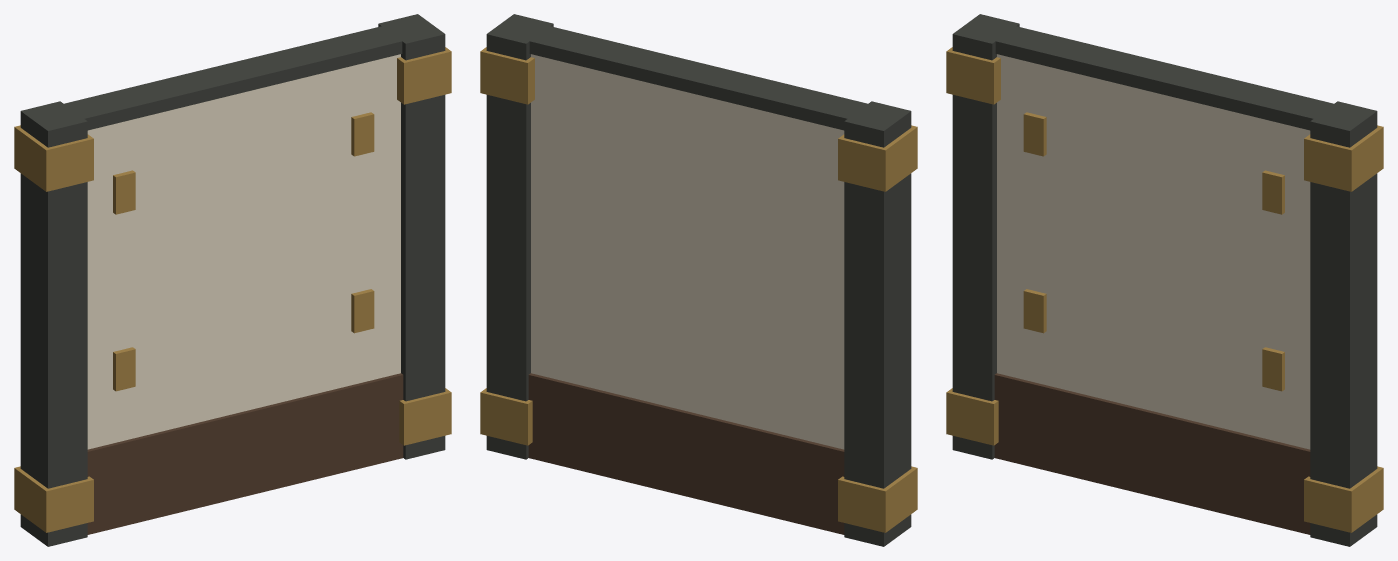
The model's file is wall_2.glb.
The picture shows the model from 3 angles, left to right: view 1: azimuth 30°, elevation 25°; view 2: azimuth 150°, elevation 25°; view 3: azimuth 330°, elevation 25°; orthographic projection.
Parts seen in each view (by area): view 1: wall_2; view 2: wall_2; view 3: wall_2.
Part boxes in pixels (x1,y1,x2,y2): wall_2: (14, 14, 451, 546); wall_2: (480, 14, 917, 546); wall_2: (946, 14, 1383, 546).
Bounding box in the file's own units: 2.04 × 2 × 0.28.
